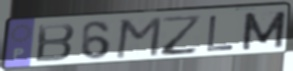6: (79, 19, 114, 62)
B: (34, 22, 77, 64)
L: (204, 14, 237, 53)
M: (113, 15, 164, 60), (239, 10, 289, 52)
Z: (160, 13, 204, 57)
